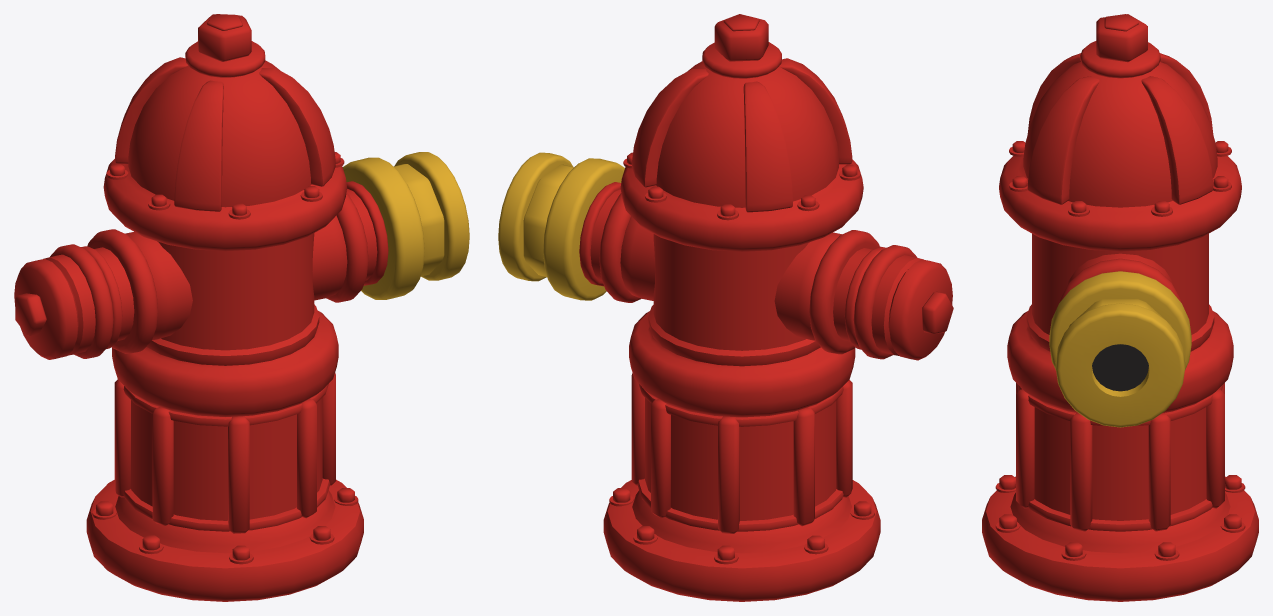
File: Hydrant.fbx
The picture shows the model from 3 angles, left to right: view 1: azimuth 30°, elevation 25°; view 2: azimuth 150°, elevation 25°; view 3: azimuth 270°, elevation 25°; orthographic projection.
Visible parts, largest first — view 1: Hydrant_Body, Hydrant_Coupling, Hydrant_Cap; view 2: Hydrant_Body, Hydrant_Coupling, Hydrant_Cap; view 3: Hydrant_Body, Hydrant_Coupling.
Boxes of the visible parts, x1,y1,x2,y2 form: Hydrant_Body: [81, 14, 388, 601]; Hydrant_Coupling: [342, 152, 469, 299]; Hydrant_Cap: [14, 244, 113, 359]; Hydrant_Body: [579, 14, 886, 601]; Hydrant_Coupling: [498, 152, 624, 300]; Hydrant_Cap: [853, 245, 953, 360]; Hydrant_Body: [982, 14, 1258, 601]; Hydrant_Coupling: [1049, 271, 1191, 427].
Bounding box in the file's own units: 0.741 × 0.898 × 0.428.
